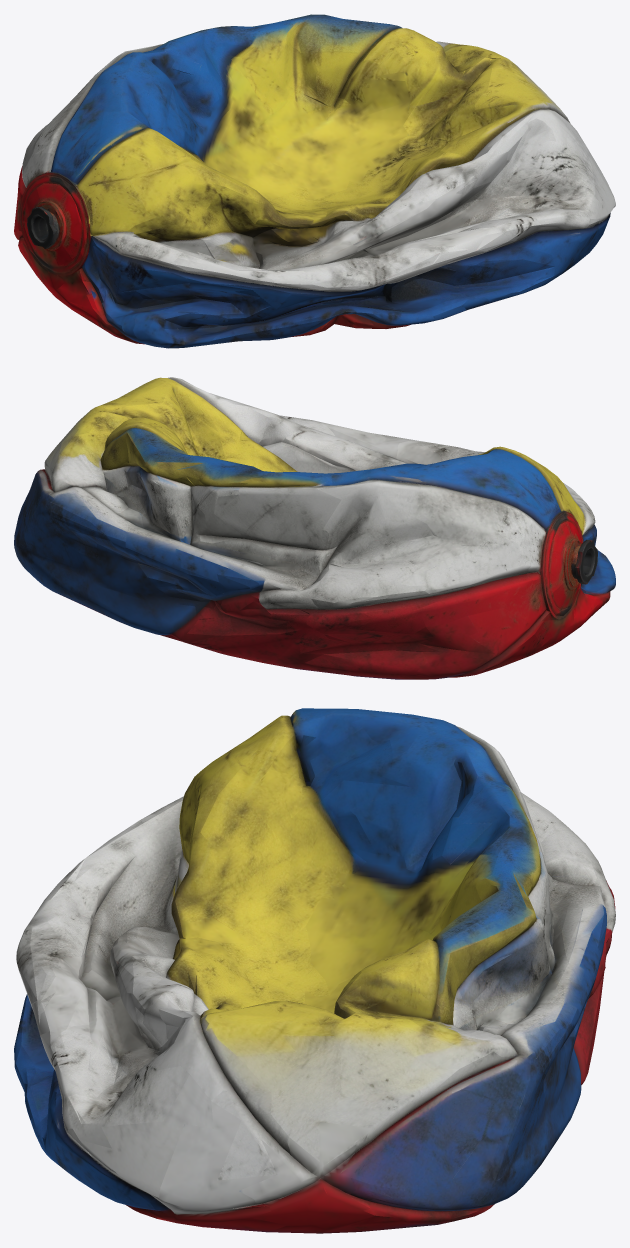
Rendered from pallone_sgonfio.glb.
The picture shows the model from 3 angles, top to bottom: view 1: azimuth 30°, elevation 25°; view 2: azimuth 150°, elevation 25°; view 3: azimuth 270°, elevation 25°; orthographic projection. The views are drawn at different scales.
Parts seen in each view (by area): view 1: Mesh_0; view 2: Mesh_0; view 3: Mesh_0.
Boxes of the visible parts, x1,y1,x2,y2 form: Mesh_0: [14, 14, 615, 348]; Mesh_0: [14, 377, 615, 679]; Mesh_0: [14, 708, 615, 1233].
Size of the model in its own units: 1.9 by 0.6045 by 1.35.
Materials: 1 (1 with a texture image).
